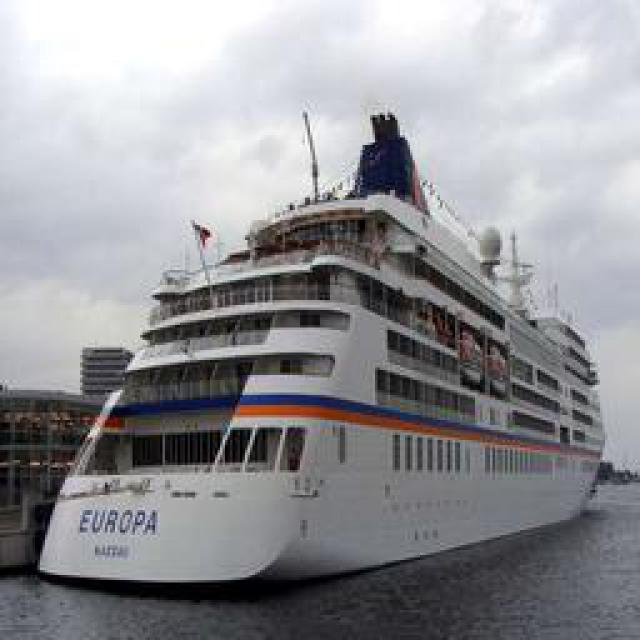Ship: (34, 119, 604, 592)
